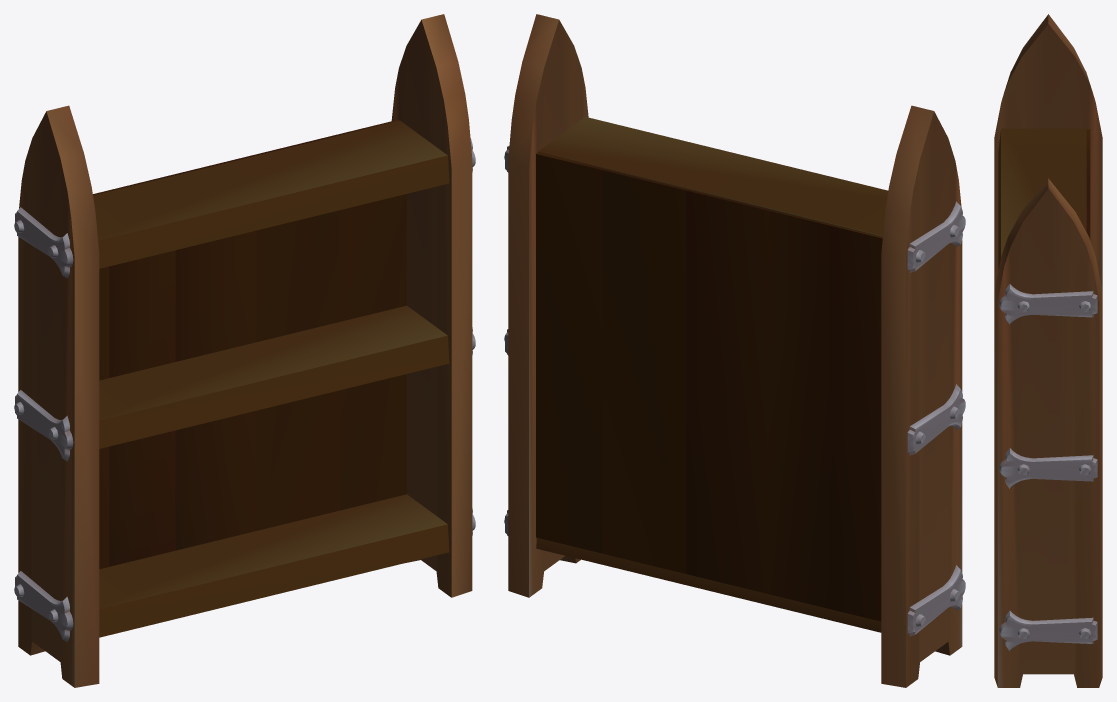
The model's file is arch_shelf.glb.
3 renders of one model, left to right at view 1: azimuth 30°, elevation 25°; view 2: azimuth 150°, elevation 25°; view 3: azimuth 270°, elevation 25°, orthographic. The views are drawn at different scales.
Visible parts, largest first — view 1: arch_shelf; view 2: arch_shelf; view 3: arch_shelf.
Part boxes in pixels (x1,y1,x2,y2): arch_shelf: (14,14,475,687); arch_shelf: (504,14,965,687); arch_shelf: (994,14,1102,687).
Size of the model in its own units: 1.25 by 1.59 by 0.3116.
